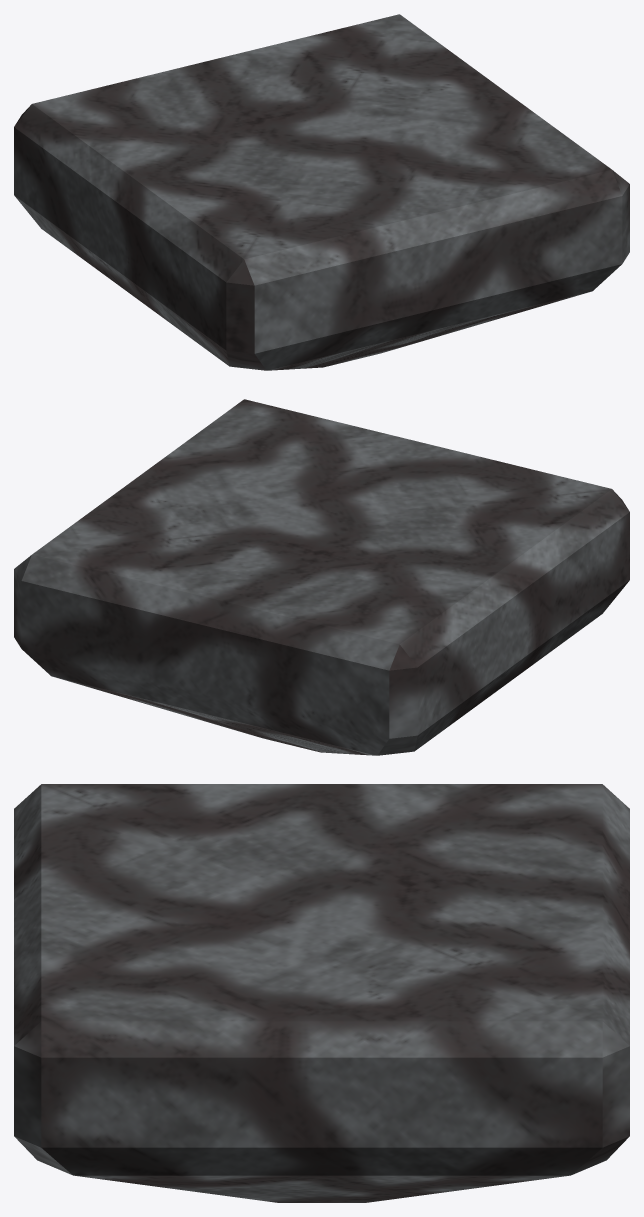
Rendered from crumblingRockPlat.glb.
3 renders of one model, top to bottom at view 1: azimuth 30°, elevation 25°; view 2: azimuth 150°, elevation 25°; view 3: azimuth 270°, elevation 25°, orthographic. The views are drawn at different scales.
Parts seen in each view (by area): view 1: Cube-col; view 2: Cube-col; view 3: Cube-col.
Boxes of the visible parts, bbox=[...] form: Cube-col: bbox=[14, 14, 629, 370]; Cube-col: bbox=[14, 399, 629, 755]; Cube-col: bbox=[14, 784, 629, 1202].
Size of the model in its own units: 8 by 4 by 8.
Materials: 1 (1 with a texture image).
